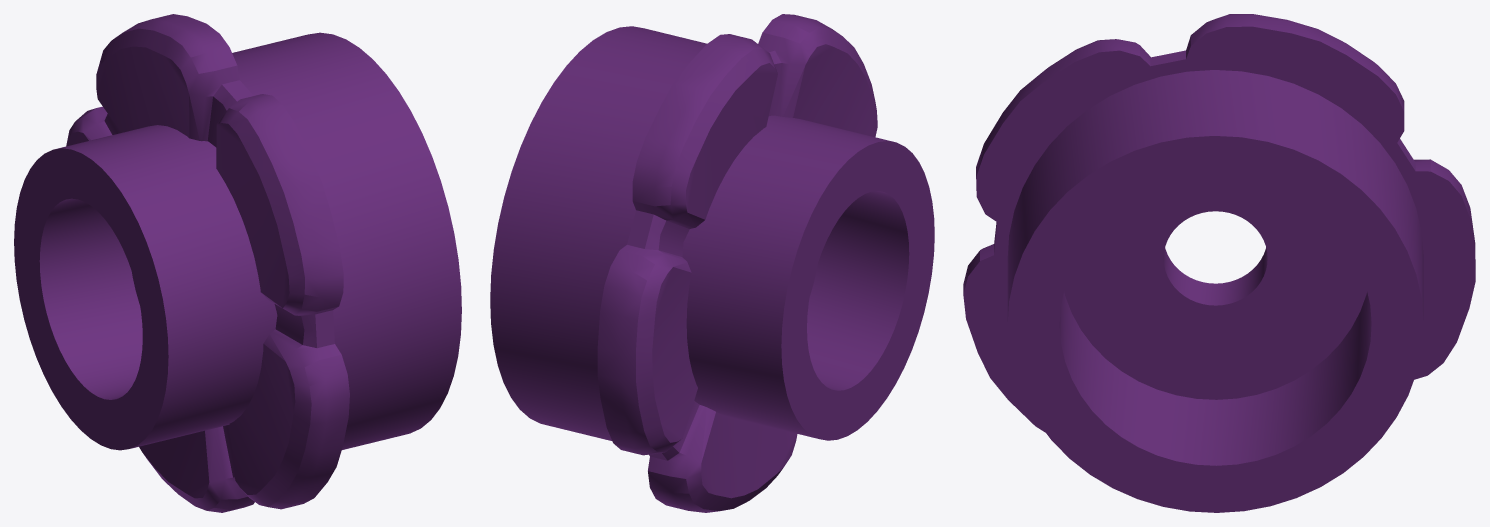
The model's file is plate_round_1*1_with_flower_edge(5_petals)_medium_lavender.obj.
3 views of the same model, side by side, from view 1: azimuth 30°, elevation 25°; view 2: azimuth 150°, elevation 25°; view 3: azimuth 270°, elevation 25° (orthographic).
Bounding box in the file's own units: 12 × 19.77 × 19.69.
